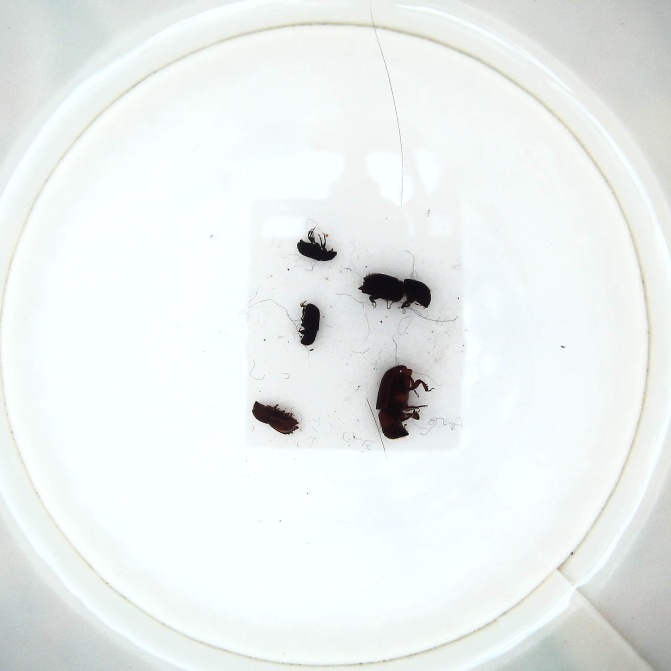armandi: (297, 300, 322, 346)
boerner: (354, 273, 433, 312)
coleoptera: (294, 225, 337, 263)
leconte: (373, 363, 426, 440)
linnaeus: (249, 399, 300, 436)
